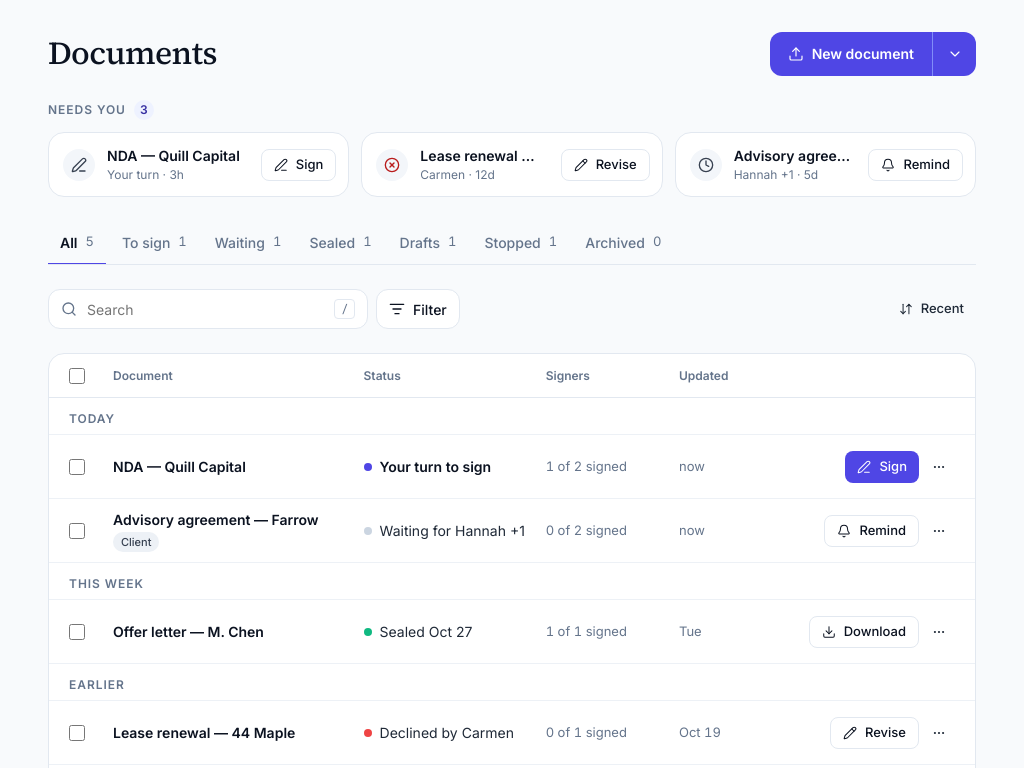
DashboardPage › never offers Delete for a sealed document; it can be archived instead
This screenshot has width=1024, height=768.
Click the checkbox named "Select Offer letter — M. Chen" at (77, 632), box [69,624,85,640]
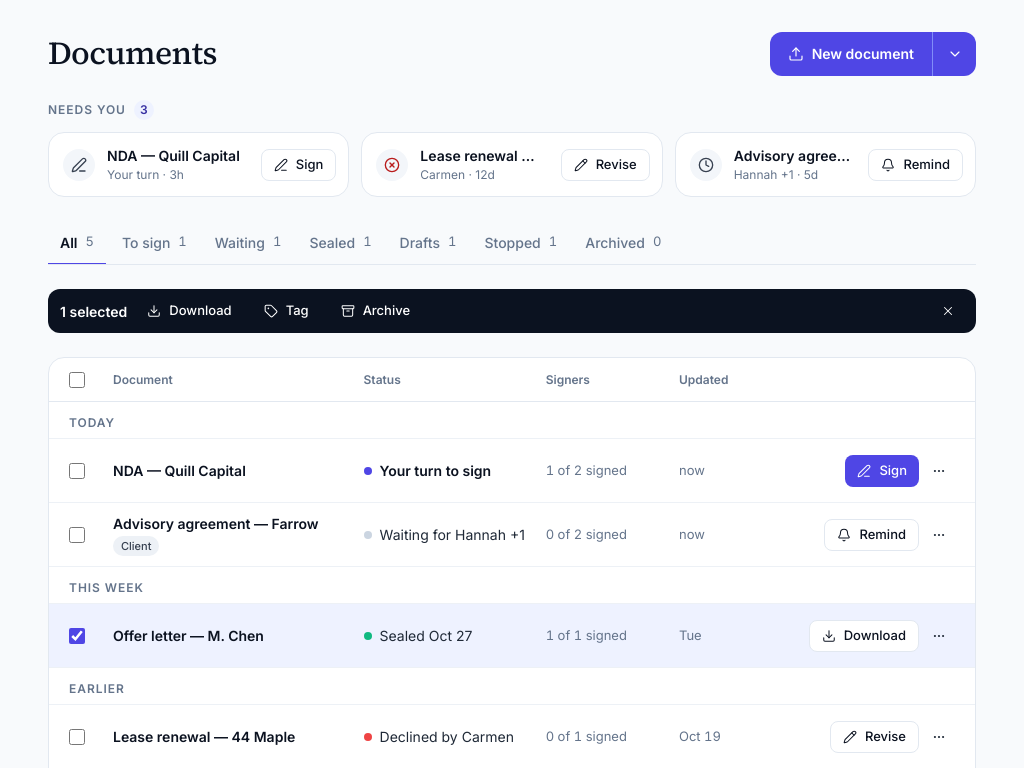
Result: the button "Archive" is shown at [329,295,422,327]
